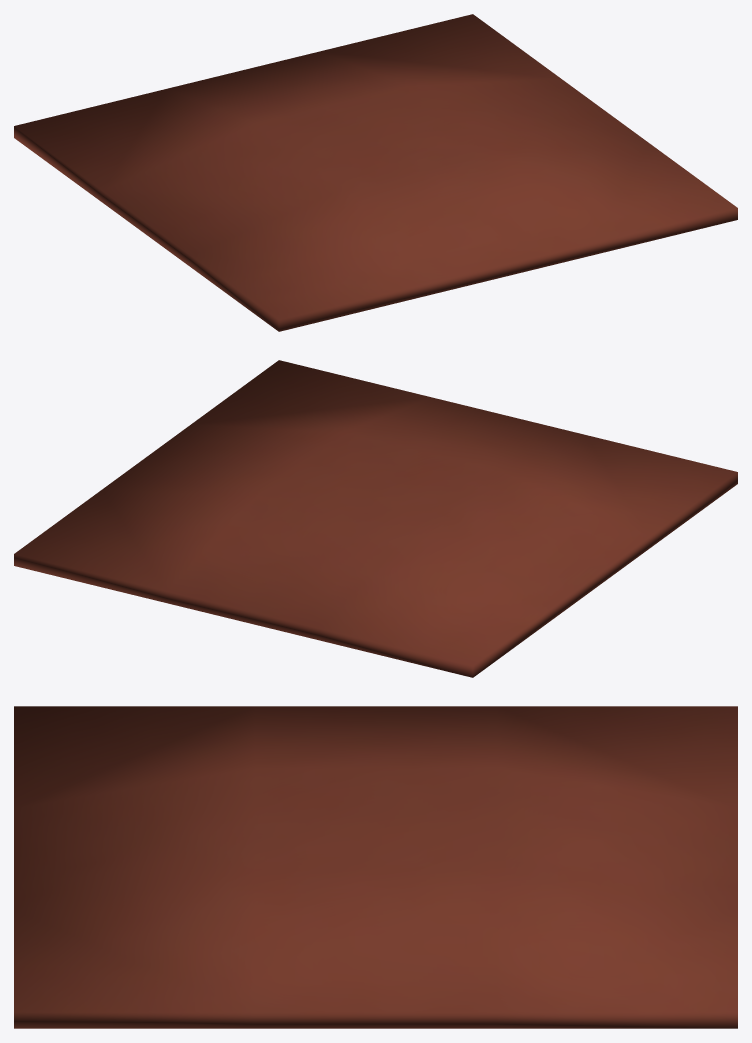
File: Crop_Tilled.glb
The picture shows the model from 3 angles, top to bottom: view 1: azimuth 30°, elevation 25°; view 2: azimuth 150°, elevation 25°; view 3: azimuth 270°, elevation 25°; orthographic projection. The views are drawn at different scales.
Parts seen in each view (by area): view 1: Plane; view 2: Plane; view 3: Plane.
Boxes of the visible parts, <box> form: Plane: <box>14,14,737,331</box>; Plane: <box>14,360,737,677</box>; Plane: <box>14,706,737,1028</box>.
Size of the model in its own units: 2 by 0.1708 by 2.
1 material, 1 textured.
